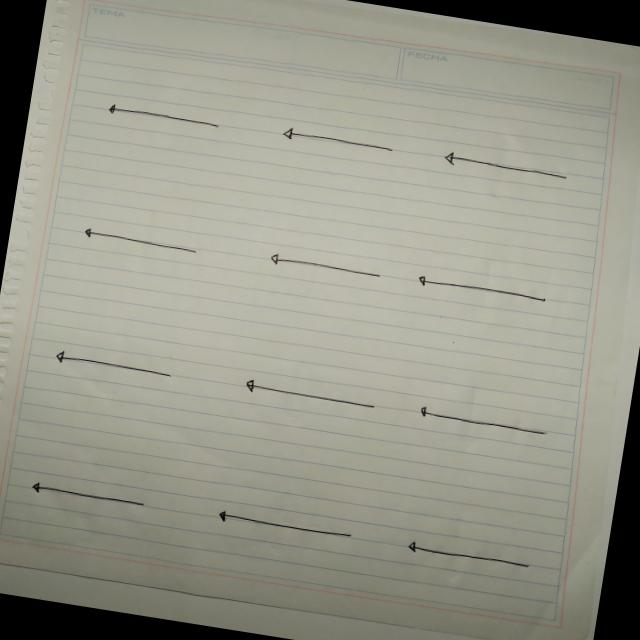arrow_line_left: (426, 140, 584, 202), (201, 494, 364, 554), (223, 368, 385, 426), (405, 396, 566, 454), (262, 116, 411, 174), (390, 529, 550, 583), (401, 266, 559, 316), (92, 90, 234, 142), (68, 215, 209, 266), (42, 343, 188, 392), (22, 469, 158, 518), (258, 246, 390, 292)
